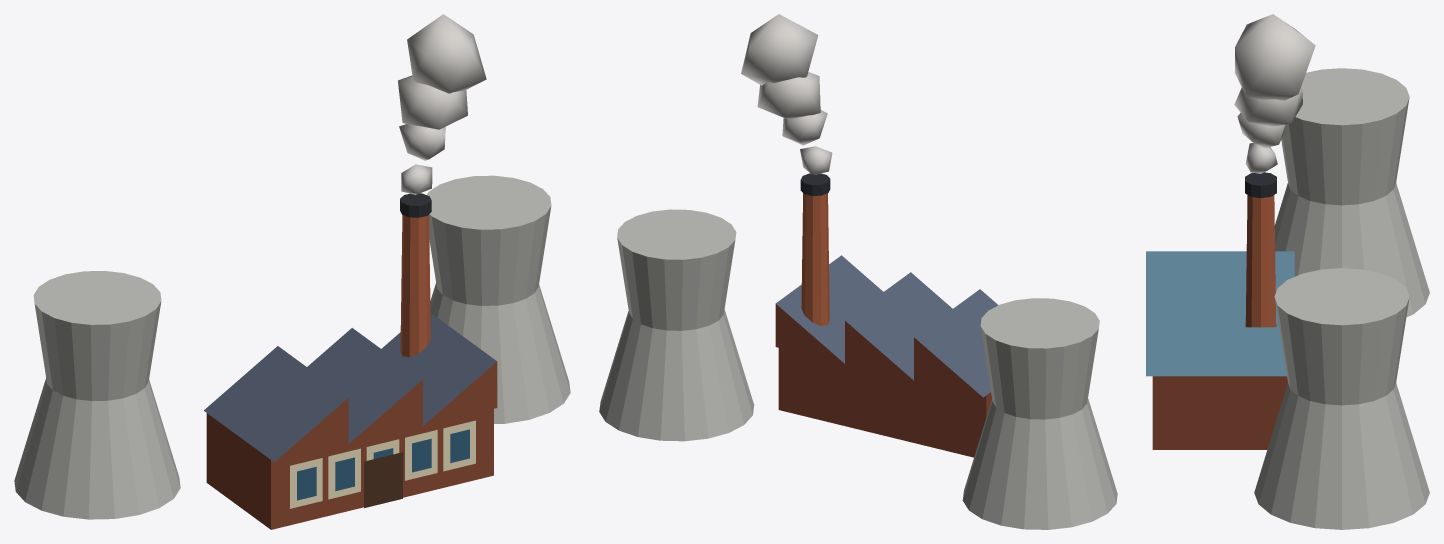
Rendered from building_power_plant.fbx.
3 views of the same model, side by side, from view 1: azimuth 30°, elevation 25°; view 2: azimuth 150°, elevation 25°; view 3: azimuth 270°, elevation 25° (orthographic). The views are drawn at different scales.
Parts seen in each view (by area): view 1: building_power_plant; view 2: building_power_plant; view 3: building_power_plant.
Part boxes in pixels (x1,y1,x2,y2): building_power_plant: (14,14,570,529); building_power_plant: (599,14,1117,529); building_power_plant: (1146,14,1429,529).
Size of the model in its own units: 96 by 71.71 by 42.
